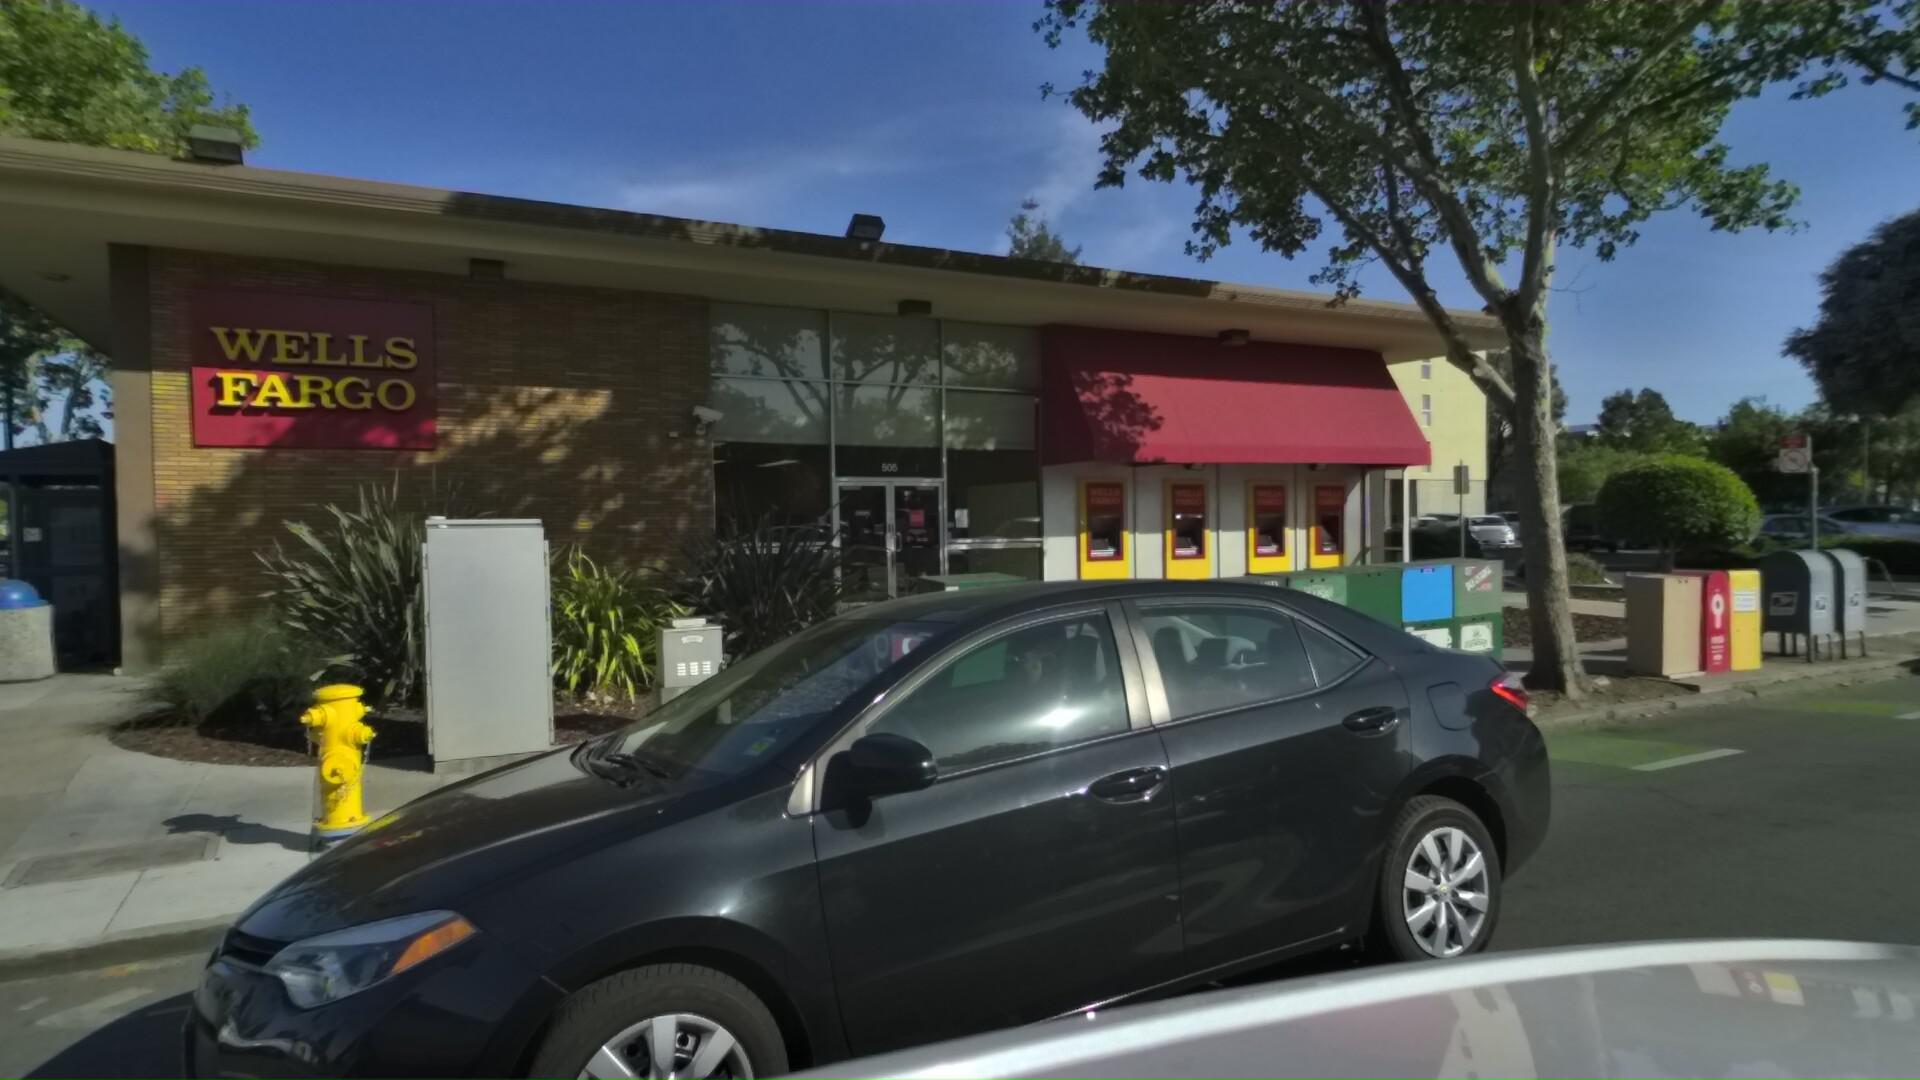car: (18, 535, 1633, 1080), (1695, 504, 1920, 564), (1782, 493, 1920, 554), (37, 539, 132, 593), (69, 539, 166, 588), (0, 530, 59, 564), (1903, 491, 1920, 546)
